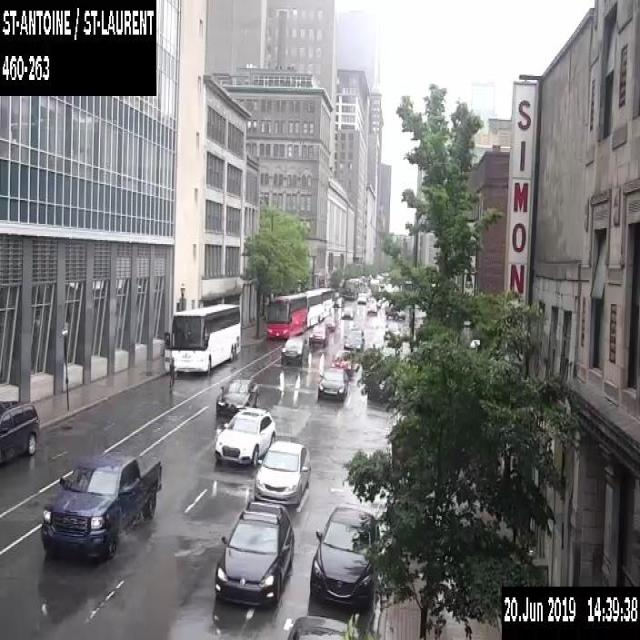bus: (163, 302, 241, 373), (266, 292, 306, 342), (298, 290, 322, 326), (312, 286, 334, 318)
pedestrian: (168, 355, 175, 392)
vehicle: (42, 448, 163, 555), (214, 500, 294, 604), (308, 500, 376, 609), (214, 405, 275, 467), (253, 440, 310, 506), (0, 399, 39, 466), (286, 609, 356, 639), (215, 377, 259, 415), (317, 366, 348, 399), (280, 335, 308, 364), (331, 349, 355, 374), (343, 328, 364, 351), (308, 323, 328, 346), (342, 277, 358, 298), (384, 305, 405, 320), (323, 314, 338, 332), (340, 305, 354, 318), (366, 302, 377, 312), (356, 292, 366, 302), (334, 296, 343, 307)
